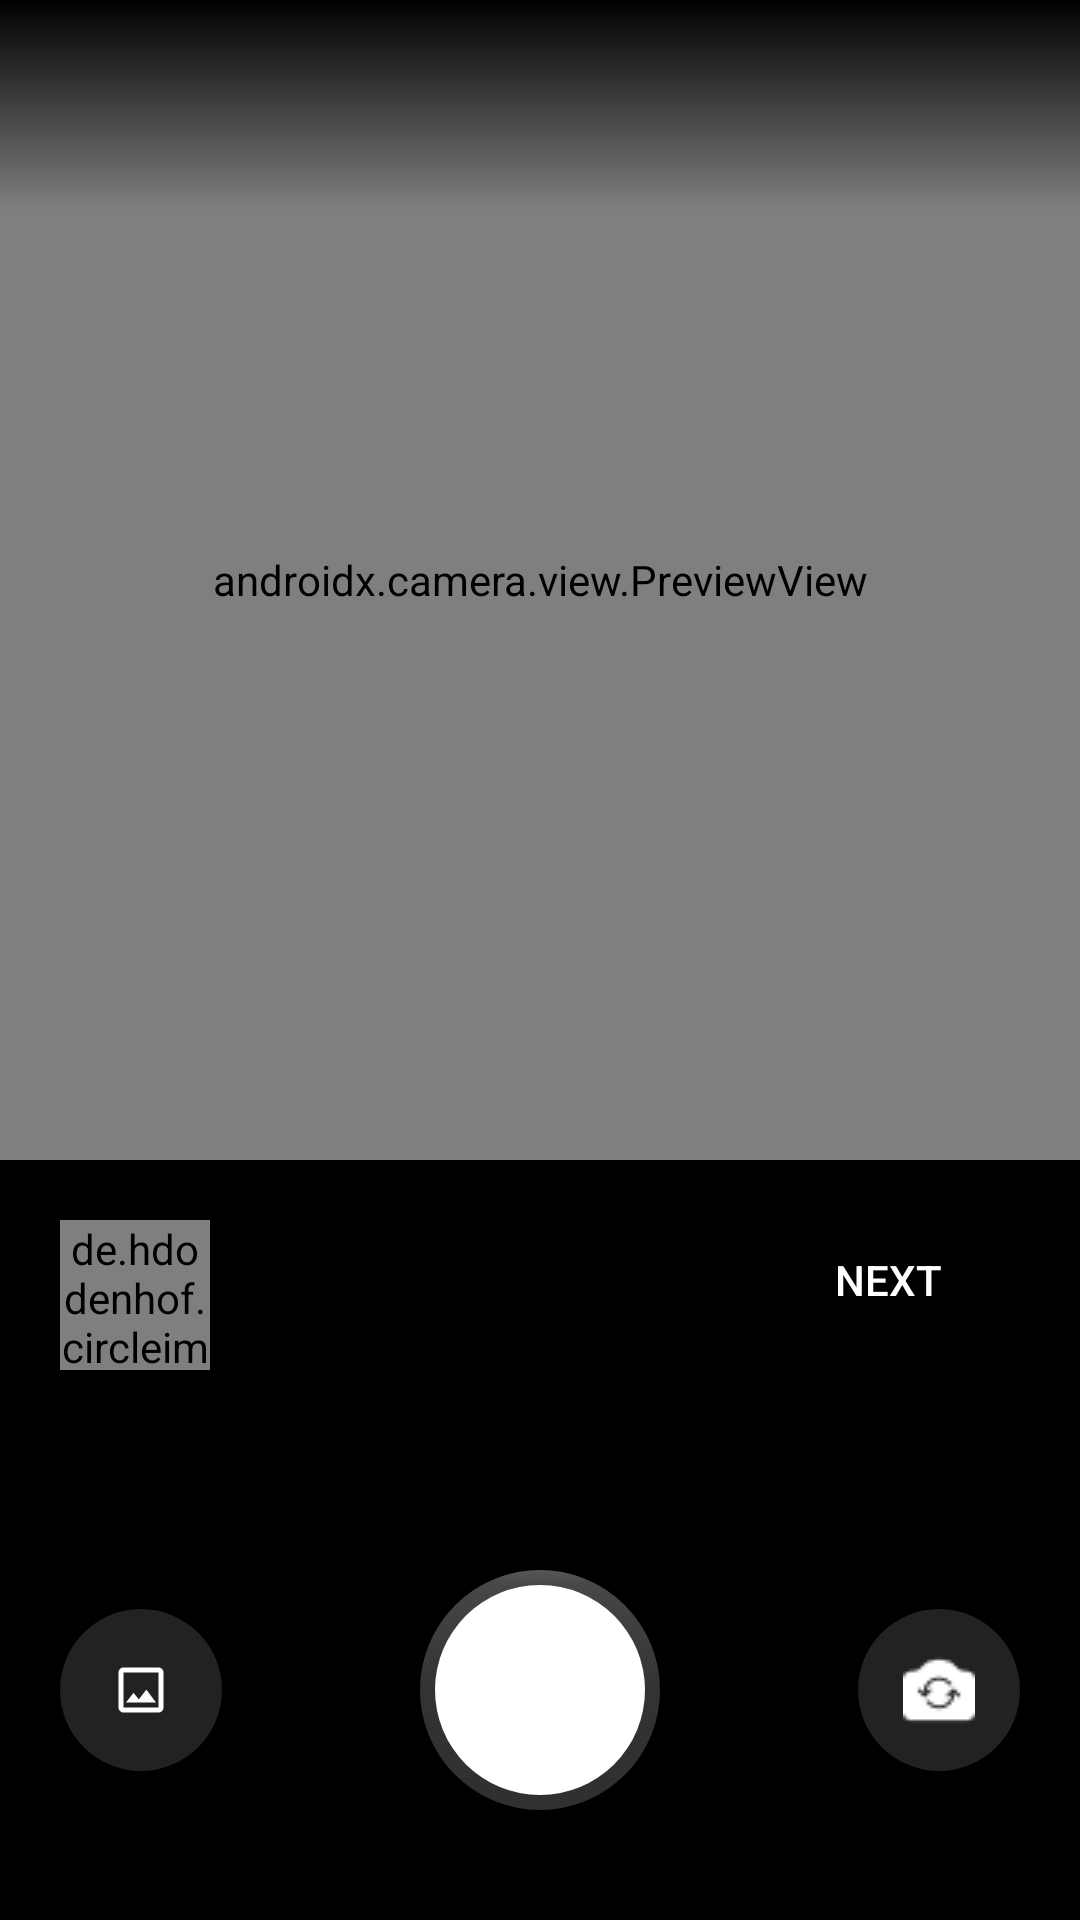

Icons on this 1080px×1920px Android screen, each with its box as (x1, y1, x2, y2):
camera: (858, 1609, 1020, 1771)
